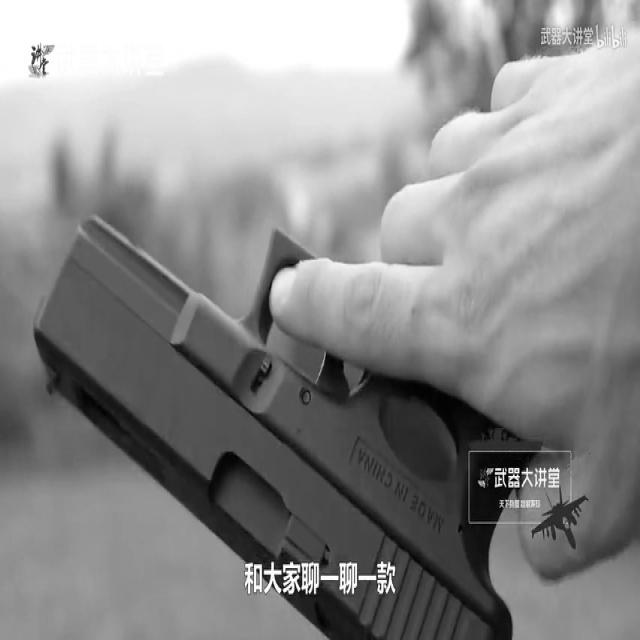Hand-Gun: (3, 98, 534, 640)
